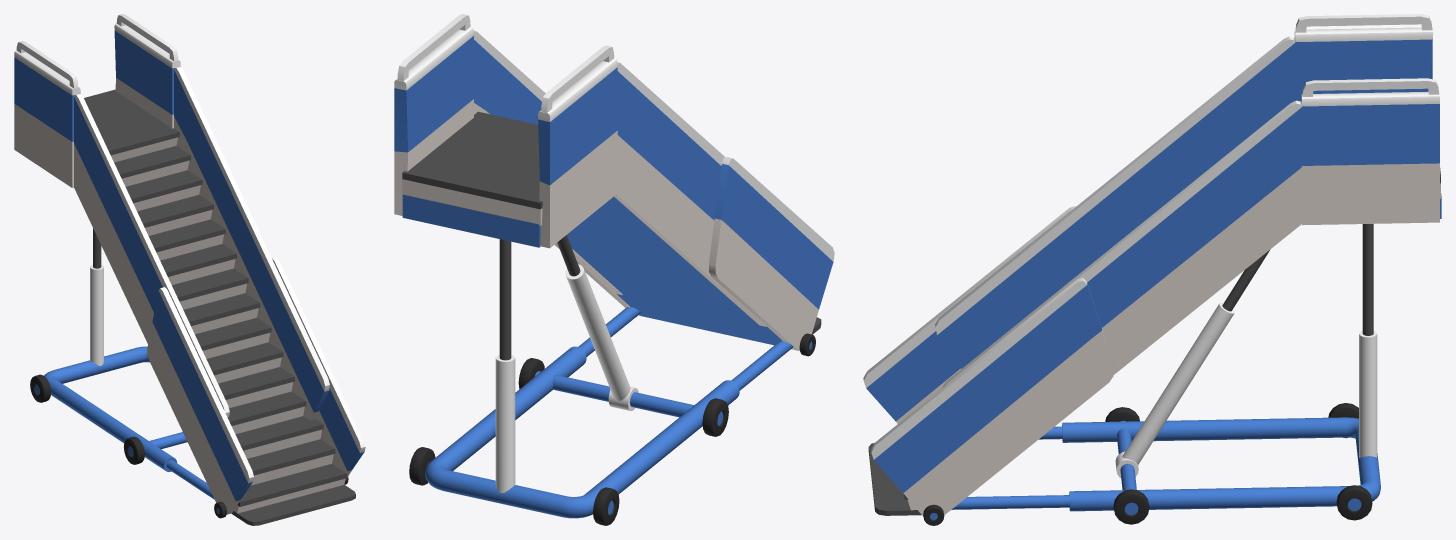
The model's file is airplane_stairs.obj.
3 renders of one model, left to right at view 1: azimuth 30°, elevation 25°; view 2: azimuth 150°, elevation 25°; view 3: azimuth 270°, elevation 25°, orthographic. The views are drawn at different scales.
Parts seen in each view (by area): view 1: 03.AirplaneStairs.001; view 2: 03.AirplaneStairs.001; view 3: 03.AirplaneStairs.001.
Part boxes in pixels (left/top/right/bottom): 03.AirplaneStairs.001: left=14, top=14, right=365, bottom=525; 03.AirplaneStairs.001: left=394, top=14, right=834, bottom=525; 03.AirplaneStairs.001: left=863, top=14, right=1441, bottom=525.
Size of the model in its own units: 3.68 by 7.96 by 9.72.
